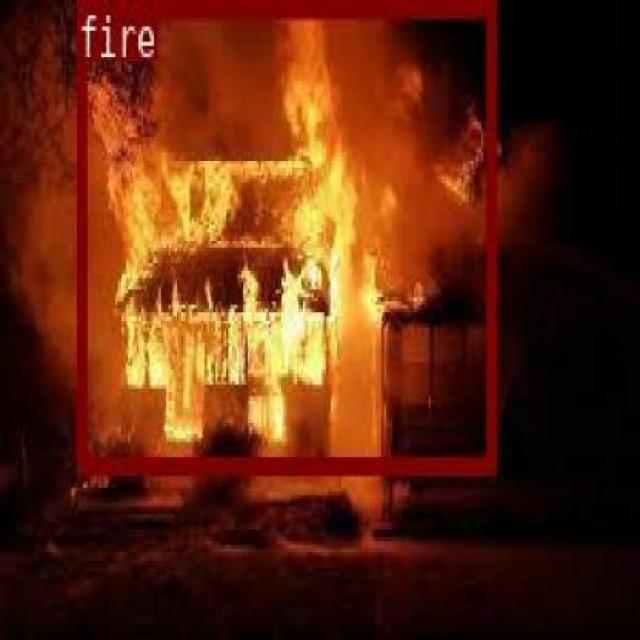Fire: (284, 236, 418, 472)
